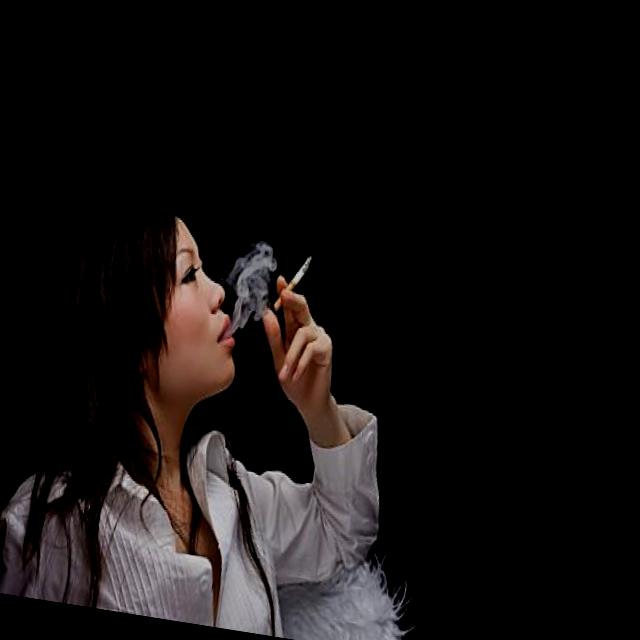cigarette: (282, 240, 318, 304)
